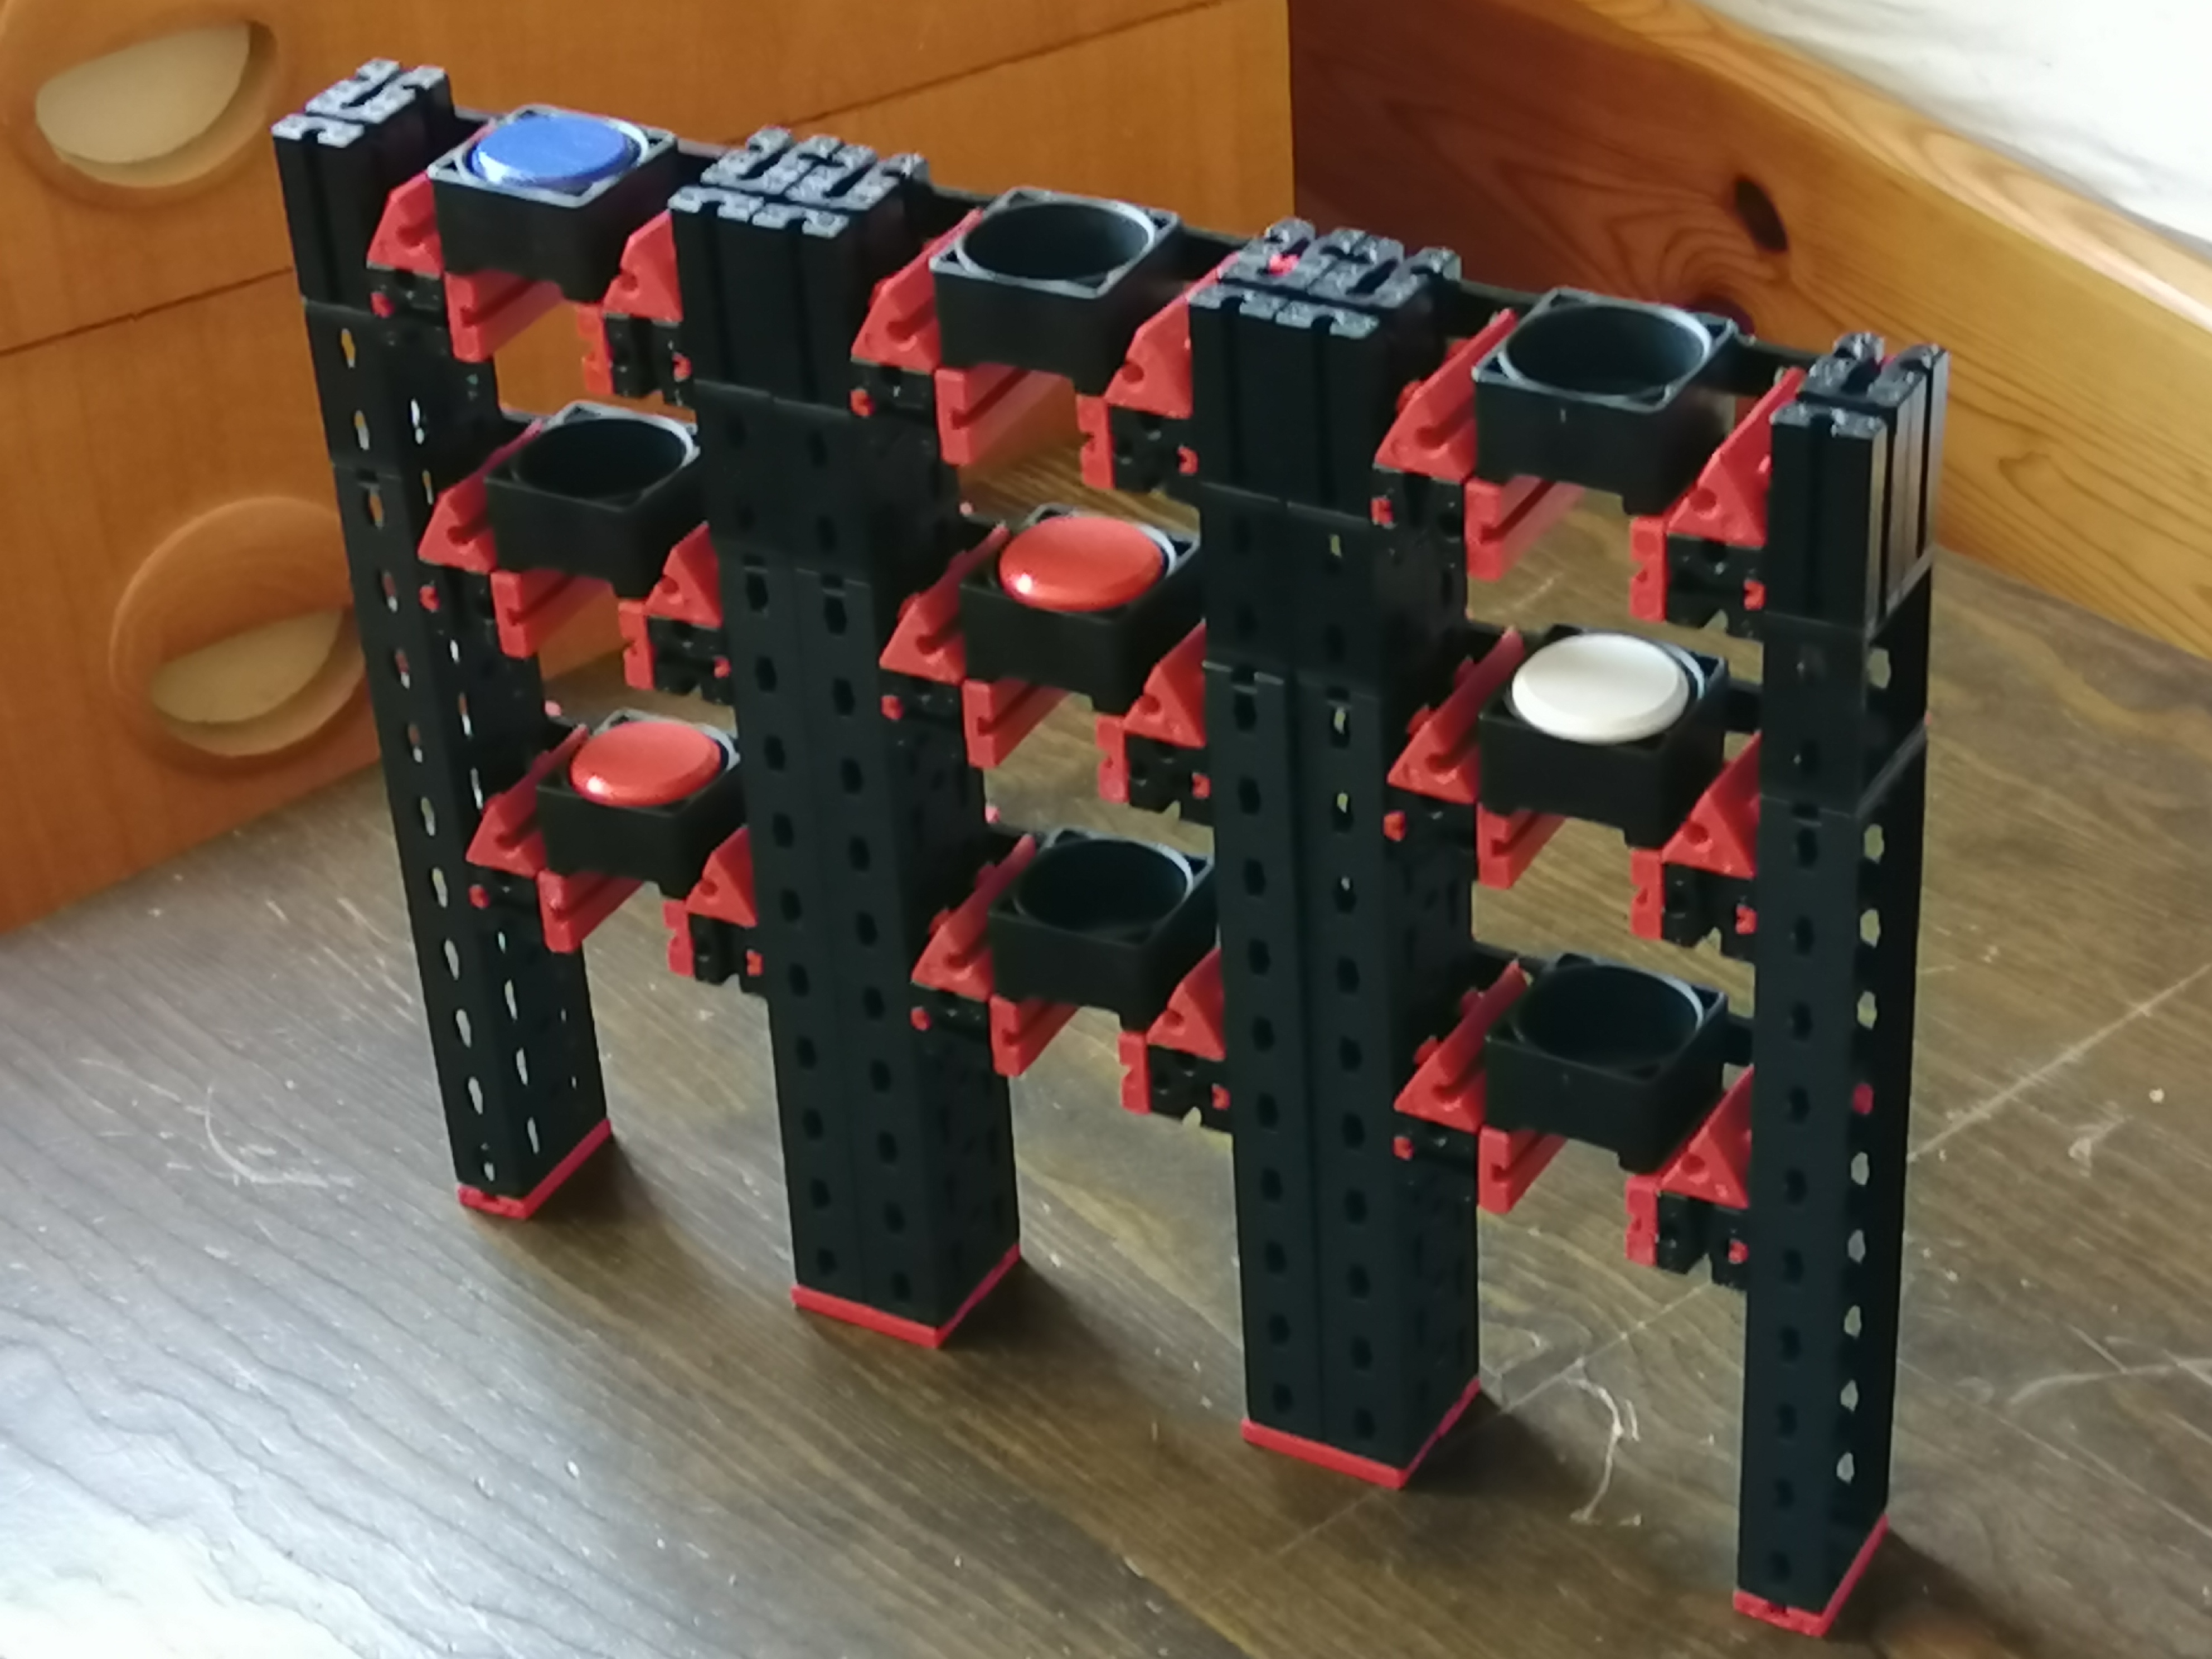Behaelter: (1494, 962, 1721, 1138), (1491, 300, 1684, 497), (956, 200, 1123, 385), (1494, 674, 1686, 833), (441, 125, 632, 279), (975, 526, 1141, 695), (991, 857, 1170, 1004), (503, 425, 665, 587), (543, 744, 718, 882)
WerkStueck: (1517, 638, 1688, 727), (1005, 525, 1155, 620), (474, 120, 636, 185), (580, 723, 718, 796)
